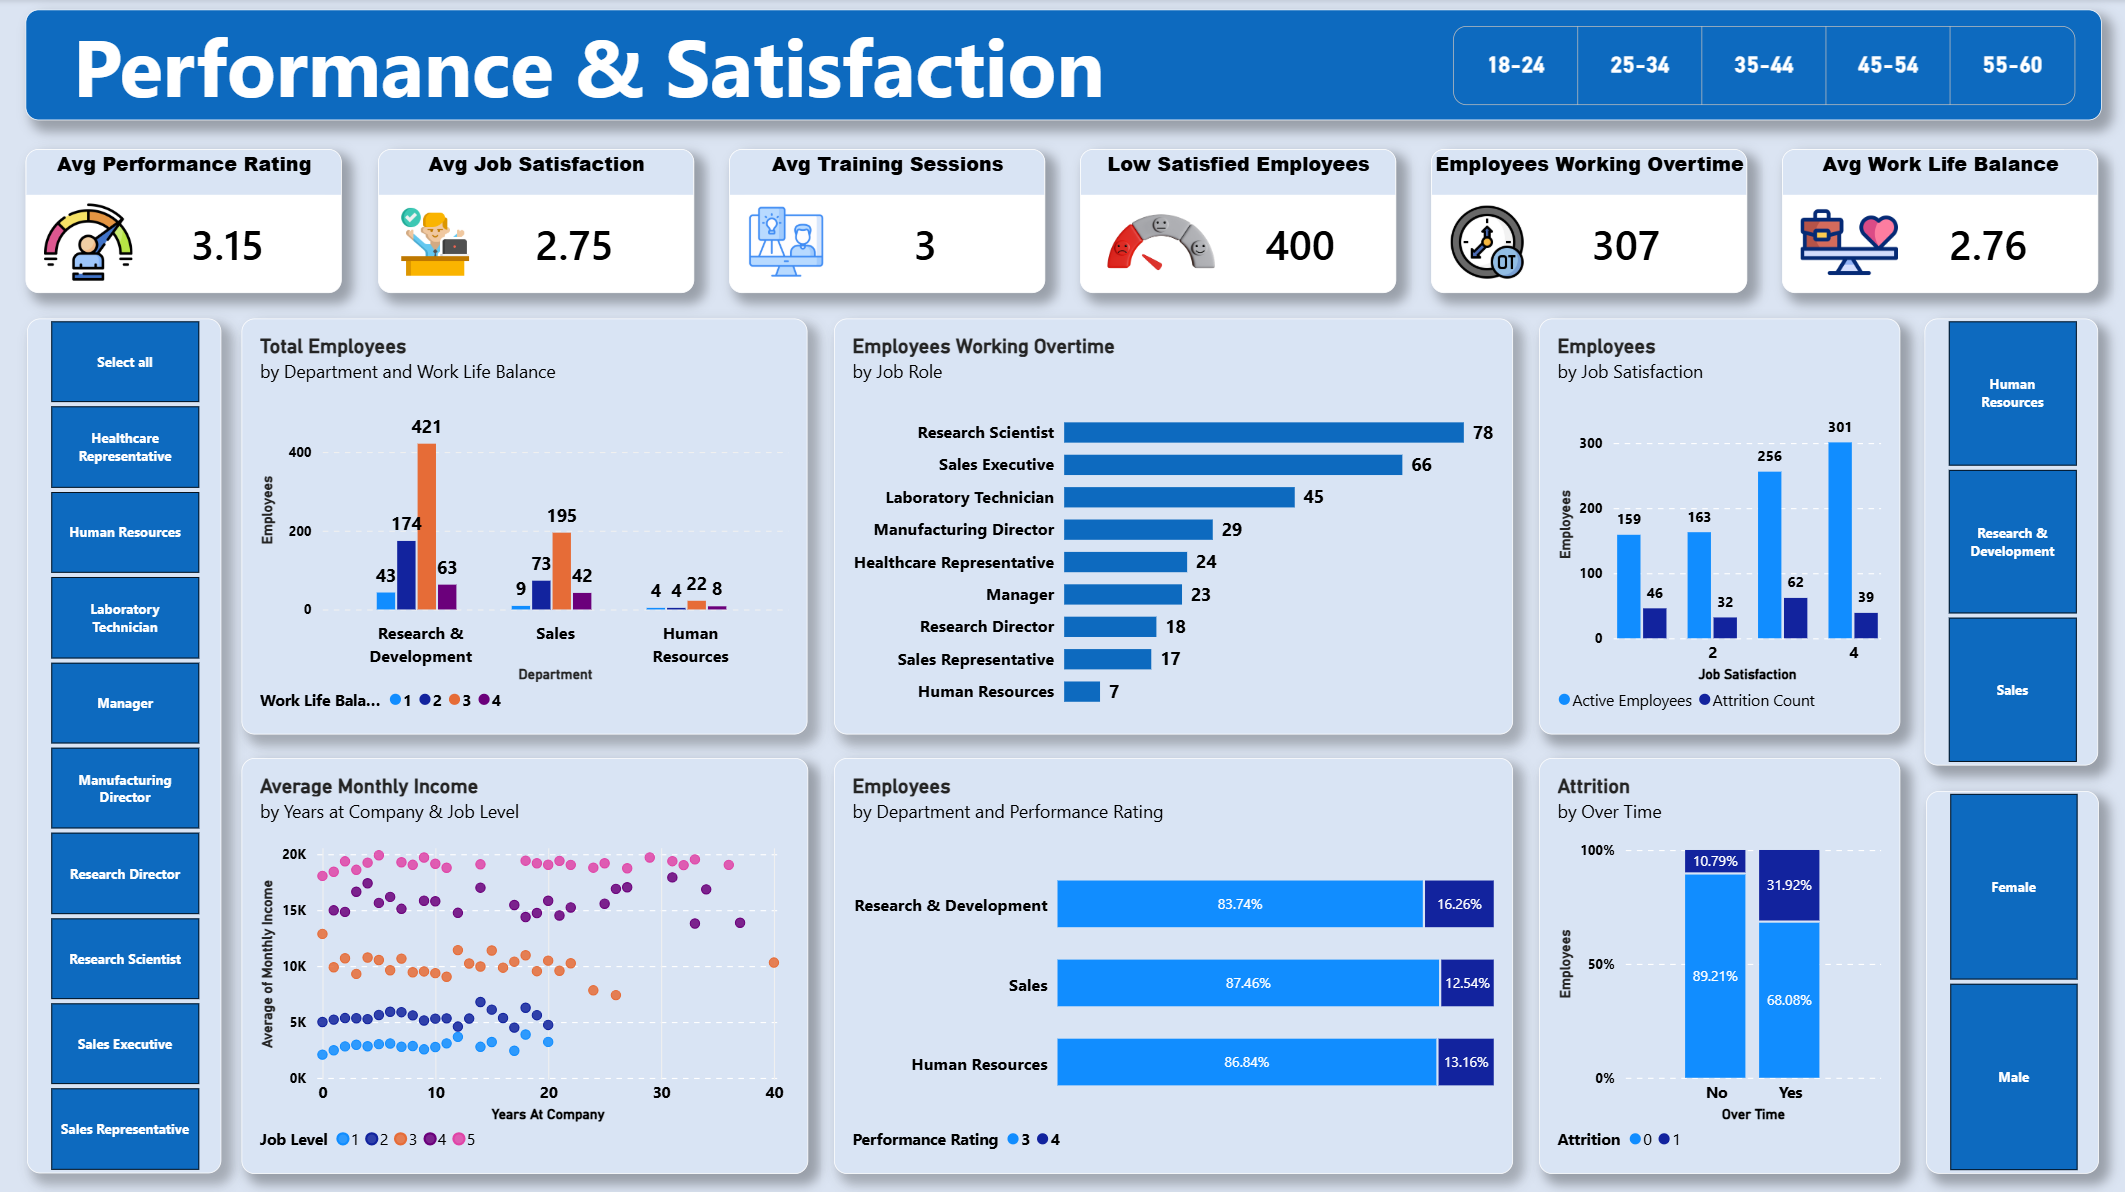

The dashboard page shown, as its layout file describes it:
{"tool":"powerbi","page":{"name":"Employee Performance & Satisfaction","canvas":[1920,1080],"ordinal":1},"visuals":[{"type":"textbox","box":[23.5,10,1873,100],"z":0},{"type":"slicer","fields":{"Values":["IBM Employee Dataset.Job Role"]},"box":[23.8,288.8,175,771.2],"z":1000},{"type":"slicer","fields":{"Values":["IBM Employee Dataset.Department"]},"box":[1736.7,288.3,156.7,403.3],"z":2000},{"type":"slicer","fields":{"Values":["IBM Employee Dataset.Gender"]},"box":[1737.5,715,156.2,345],"z":3000},{"type":"advancedSlicerVisual","fields":{"Values":["IBM Employee Dataset.Age Group"]},"box":[1291.7,24.8,604,71.4],"z":4000},{"type":"cardVisual","title":"Avg Performance Rating","fields":{"Data":["IBM Employee Dataset.Average Performance Rating"]},"box":[22.9,135.7,285,130],"z":5000},{"type":"cardVisual","title":"Avg Job Satisfaction","fields":{"Data":["IBM Employee Dataset.Avg Job Satisfaction"]},"box":[341,135.8,285,130],"z":6000},{"type":"cardVisual","title":"Employees Working Overtime","fields":{"Data":["IBM Employee Dataset.Employee Working Overtime"]},"box":[1291.4,135.8,285,130],"z":7000},{"type":"cardVisual","title":"Avg Training Sessions","fields":{"Data":["IBM Employee Dataset.Average Training Sessions"]},"box":[657.8,135.8,285,130],"z":8000},{"type":"cardVisual","title":"Low Satisfied Employees","fields":{"Data":["IBM Employee Dataset.Employees with Low Satisfaction"]},"box":[974.6,135.8,285,130],"z":9000},{"type":"cardVisual","title":"Avg Work Life Balance","fields":{"Data":["Avg(IBM Employee Dataset.Work Life Balance)"]},"box":[1608.2,135.8,285,130],"z":10000},{"type":"barChart","title":"Employees Working Overtime","fields":{"Category":["IBM Employee Dataset.Job Role"],"Y":["IBM Employee Dataset.Employee Working Overtime"]},"box":[753,288.2,612.6,375.5],"z":11000},{"type":"hundredPercentStackedColumnChart","title":"Attrition","fields":{"Category":["IBM Employee Dataset.Over Time"],"Series":["IBM Employee Dataset.Attrition"],"Y":["IBM Employee Dataset.Total Employee"]},"box":[1389.1,684.2,326.2,375.5],"z":12000},{"type":"clusteredColumnChart","title":"Employees","fields":{"Category":["IBM Employee Dataset.Job Satisfaction"],"Y":["IBM Employee Dataset.Active Employees","IBM Employee Dataset.Attrition Count"]},"box":[1389.1,288,326.2,375.5],"z":13000},{"type":"hundredPercentStackedBarChart","title":"Employees","fields":{"Category":["IBM Employee Dataset.Department"],"Series":["IBM Employee Dataset.Performance Rating"],"Y":["IBM Employee Dataset.Total Employee"]},"box":[753,684.2,612.6,375.5],"z":15000},{"type":"clusteredColumnChart","title":"Total Employees","fields":{"Category":["IBM Employee Dataset.Department"],"Series":["IBM Employee Dataset.Work Life Balance"],"Y":["IBM Employee Dataset.Total Employee"]},"box":[218,288,510.8,375.5],"z":16000},{"type":"scatterChart","title":"Average Monthly Income","fields":{"Series":["IBM Employee Dataset.Job Level"],"X":["IBM Employee Dataset.Years At Company"],"Y":["Avg(IBM Employee Dataset.Monthly Income)"]},"box":[217.2,684.9,511.4,375.7],"z":16001}]}

Visuals, with their boxes in screenshot pixels (x1, y1, x2, y2), scaled from the page's 1920x1080 canvas onto the 2125x1192 screenshot:
textbox: {"left": 26, "top": 11, "right": 2099, "bottom": 121}
slicer - IBM Employee Dataset.Job Role: {"left": 26, "top": 319, "right": 220, "bottom": 1170}
slicer - IBM Employee Dataset.Department: {"left": 1922, "top": 318, "right": 2096, "bottom": 763}
slicer - IBM Employee Dataset.Gender: {"left": 1923, "top": 789, "right": 2096, "bottom": 1170}
advancedSlicerVisual - IBM Employee Dataset.Age Group: {"left": 1430, "top": 27, "right": 2098, "bottom": 106}
"Avg Performance Rating" cardVisual: {"left": 25, "top": 150, "right": 341, "bottom": 293}
"Avg Job Satisfaction" cardVisual: {"left": 377, "top": 150, "right": 693, "bottom": 293}
"Employees Working Overtime" cardVisual: {"left": 1429, "top": 150, "right": 1745, "bottom": 293}
"Avg Training Sessions" cardVisual: {"left": 728, "top": 150, "right": 1043, "bottom": 293}
"Low Satisfied Employees" cardVisual: {"left": 1079, "top": 150, "right": 1394, "bottom": 293}
"Avg Work Life Balance" cardVisual: {"left": 1780, "top": 150, "right": 2095, "bottom": 293}
"Employees Working Overtime" barChart: {"left": 833, "top": 318, "right": 1511, "bottom": 733}
"Attrition" hundredPercentStackedColumnChart: {"left": 1537, "top": 755, "right": 1898, "bottom": 1170}
"Employees" clusteredColumnChart: {"left": 1537, "top": 318, "right": 1898, "bottom": 732}
"Employees" hundredPercentStackedBarChart: {"left": 833, "top": 755, "right": 1511, "bottom": 1170}
"Total Employees" clusteredColumnChart: {"left": 241, "top": 318, "right": 807, "bottom": 732}
"Average Monthly Income" scatterChart: {"left": 240, "top": 756, "right": 806, "bottom": 1171}
